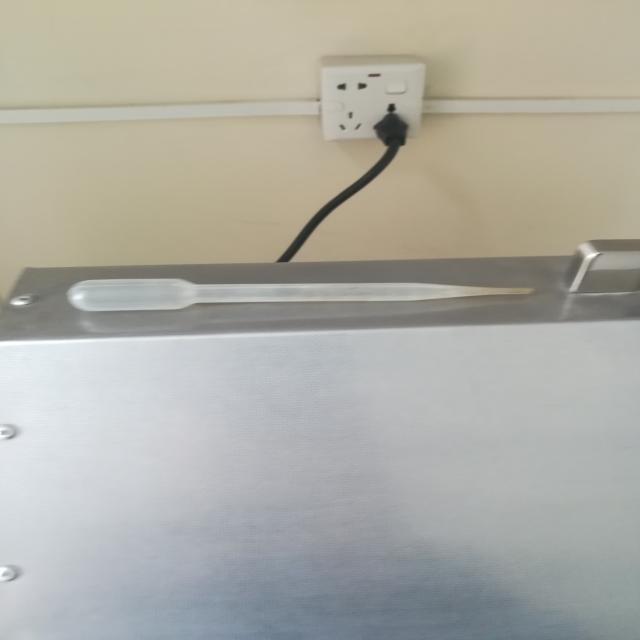Pipette: (50, 254, 554, 337)
